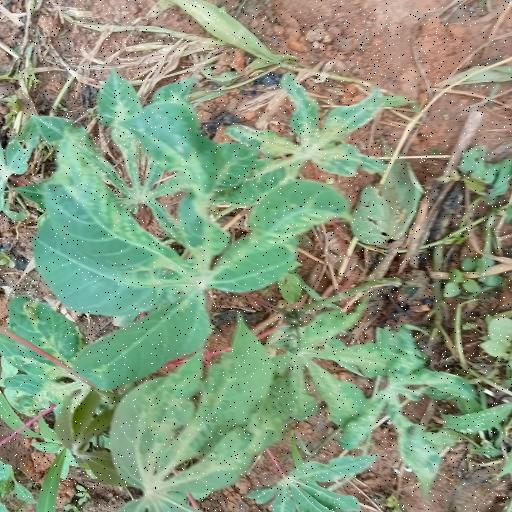Cassava_Mosaic: (34, 196, 309, 389), (216, 84, 386, 199), (123, 396, 268, 512)
